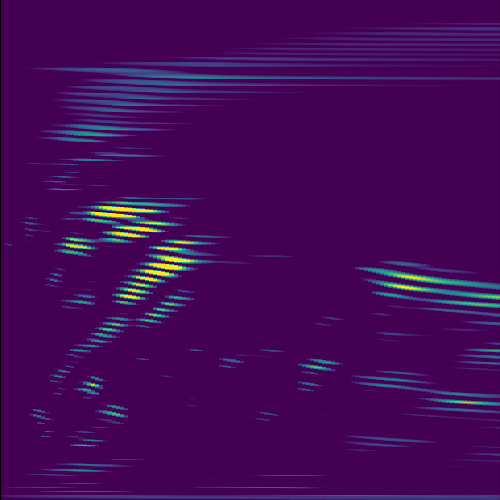semblance: (123, 235, 214, 282), (69, 199, 177, 222), (101, 217, 181, 246)
